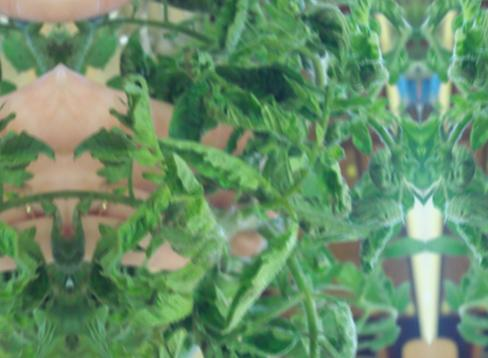Tomato leaf mosaic virus: (219, 217, 307, 331), (160, 136, 283, 208), (111, 185, 172, 262), (200, 86, 289, 136), (355, 223, 394, 277)
